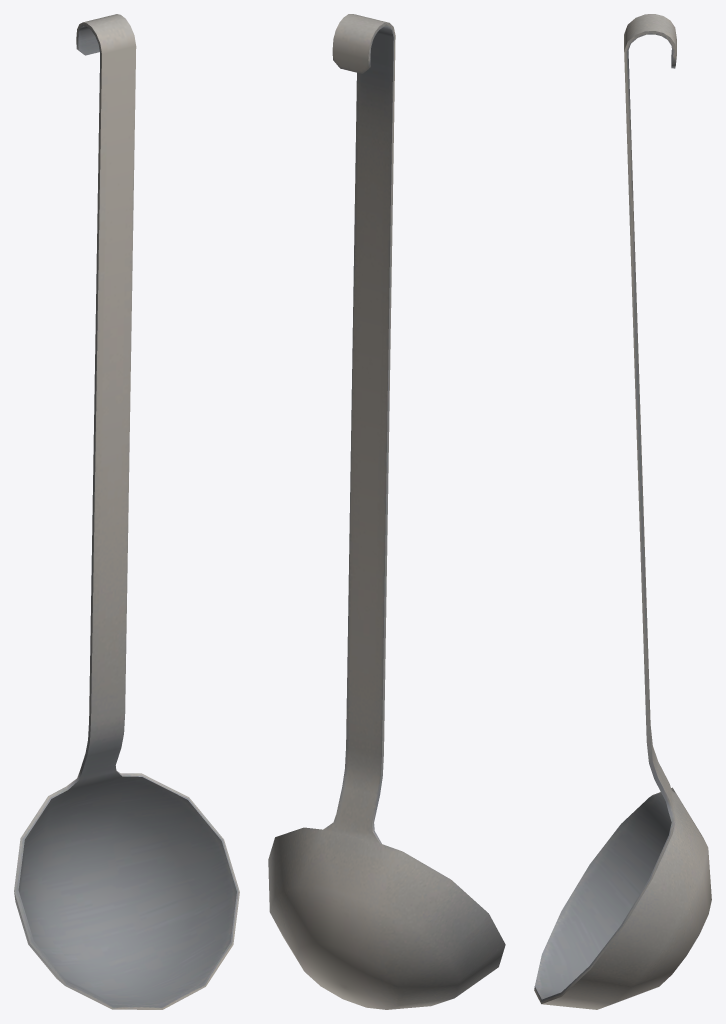
File: SM_Utensil_04.glb
The picture shows the model from 3 angles, left to right: view 1: azimuth 30°, elevation 25°; view 2: azimuth 150°, elevation 25°; view 3: azimuth 270°, elevation 25°; orthographic projection. The views are drawn at different scales.
Visible parts, largest first — view 1: SM_Utensil_04; view 2: SM_Utensil_04; view 3: SM_Utensil_04.
Part boxes in pixels (bbox=[...]): SM_Utensil_04: bbox=[14, 14, 239, 1009]; SM_Utensil_04: bbox=[268, 14, 505, 1009]; SM_Utensil_04: bbox=[534, 14, 711, 1009].
Size of the model in its own units: 0.1133 by 0.4924 by 0.0813.
1 material, 1 textured.
